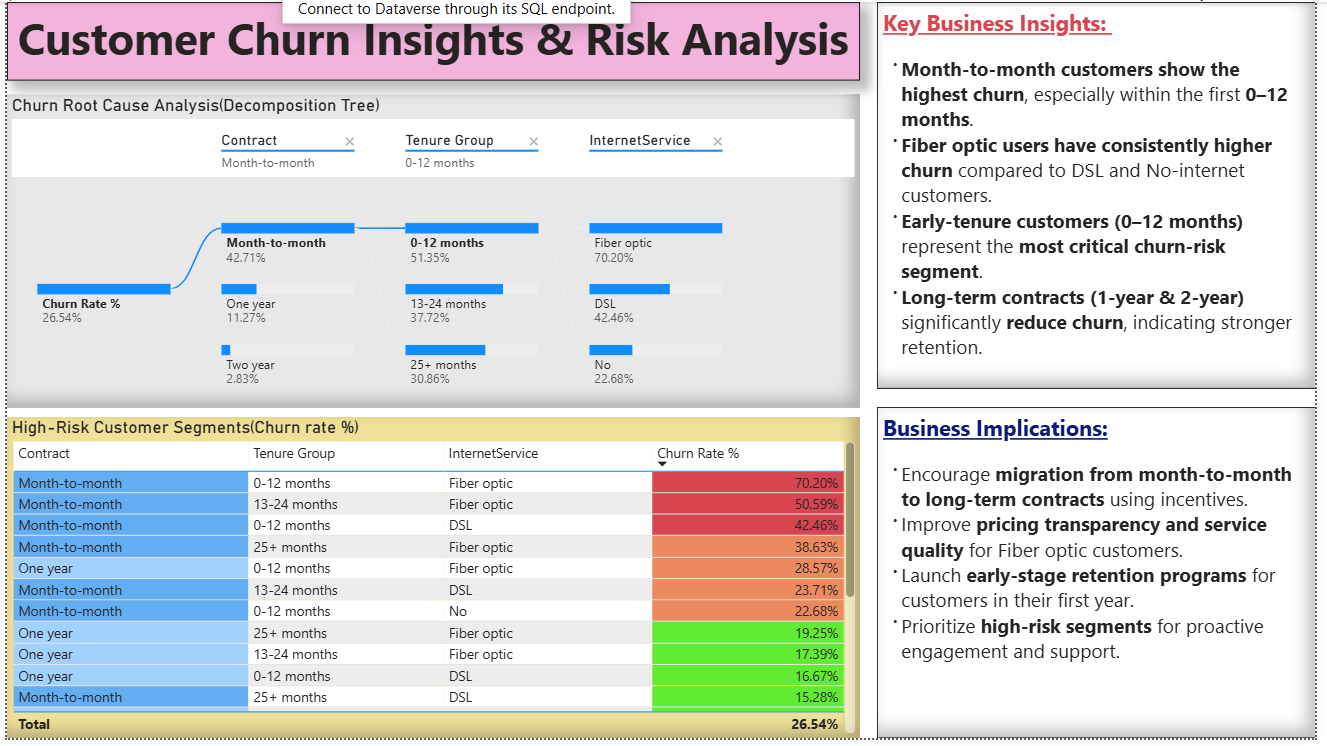

What the dashboard file says about the page in this screenshot:
{"tool":"powerbi","page":{"name":"Insights & Risk analysis","canvas":[1280,720],"ordinal":1},"visuals":[{"type":"tableEx","title":"High-Risk Customer Segments(Churn rate %)","fields":{"Values":["WA_Fn-UseC_-Telco-Customer-Churn.Contract","WA_Fn-UseC_-Telco-Customer-Churn.Tenure Group","WA_Fn-UseC_-Telco-Customer-Churn.InternetService","WA_Fn-UseC_-Telco-Customer-Churn.Churn Rate %"]},"box":[0,406.2,834.3,314.2],"z":0},{"type":"textbox","box":[850.8,0,429.5,378.7],"z":1000},{"type":"decompositionTreeVisual","title":"Churn Root Cause Analysis(Decomposition Tree)","fields":{"Analyze":["WA_Fn-UseC_-Telco-Customer-Churn.Churn Rate %"],"ExplainBy":["WA_Fn-UseC_-Telco-Customer-Churn.Contract","WA_Fn-UseC_-Telco-Customer-Churn.Tenure Group","WA_Fn-UseC_-Telco-Customer-Churn.InternetService"]},"box":[0,90.6,834.3,306],"z":2000},{"type":"textbox","box":[0,0,834.3,76.8],"z":2001},{"type":"textbox","box":[850.8,396.6,429.5,323.8],"z":2002}]}

Visuals, with their boxes on the page's 1280x720 design canvas (x1, y1, x2, y2). These are canvas units, not pixel positions in the 1327x746 screenshot, which may show the page scaled, cropped or inside an application window:
"High-Risk Customer Segments(Churn rate %)" tableEx: pyautogui.locateOnScreen(0, 406, 834, 720)
textbox: pyautogui.locateOnScreen(851, 0, 1280, 379)
"Churn Root Cause Analysis(Decomposition Tree)" decompositionTreeVisual: pyautogui.locateOnScreen(0, 91, 834, 397)
textbox: pyautogui.locateOnScreen(0, 0, 834, 77)
textbox: pyautogui.locateOnScreen(851, 397, 1280, 720)
